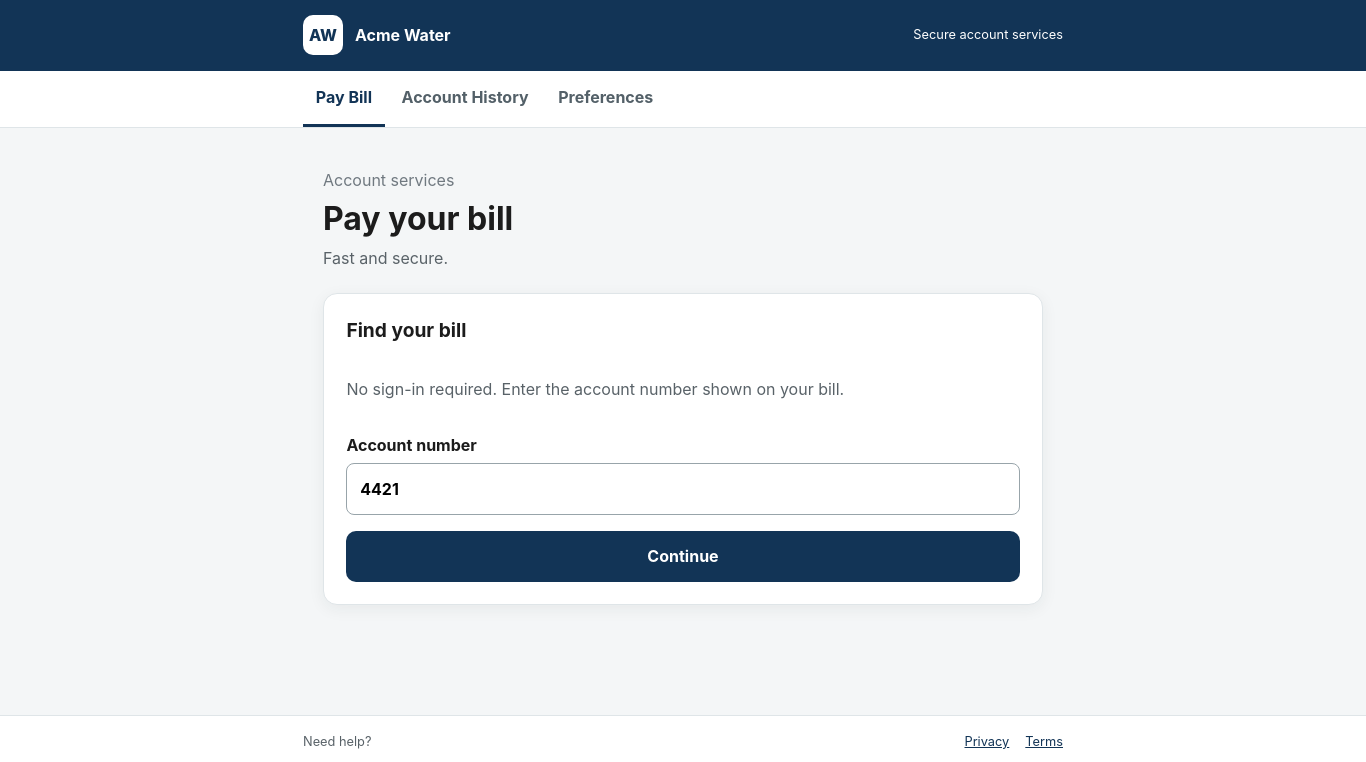
it: multi-invoice cart + batch checkout › settles each selected invoice with one POST and a distinct idempotency key
Click the button with test id "lookup-submit" at [683, 556], box [346,531,1020,582]
(page scrolled)
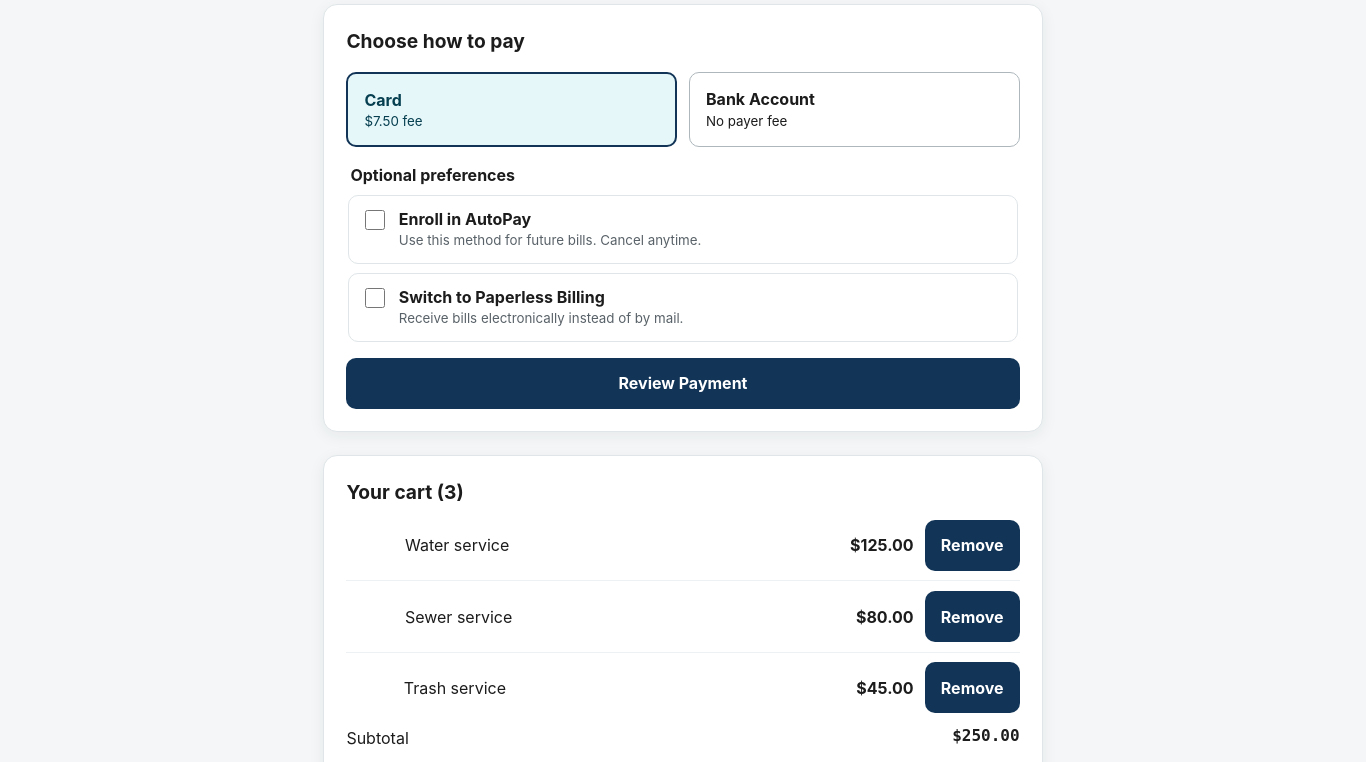
Check: the button with test id "review-submit" is enabled
Click the button with test id "review-submit" at [683, 383], box [346,358,1020,409]
(page scrolled)
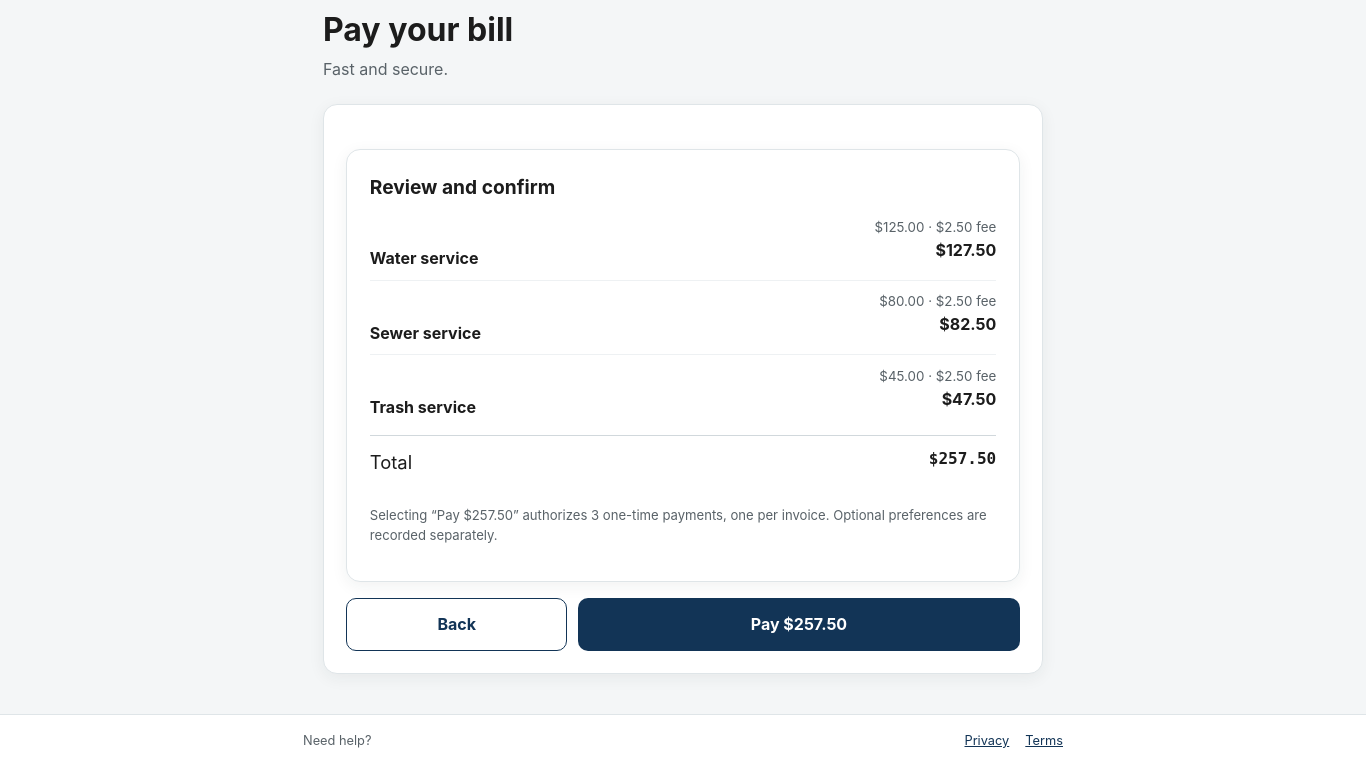
Check: the element with test id "batch-review" is shown, box [346,149,1020,582]
Click the button with test id "pay-submit" at [799, 624], box [578,598,1020,651]
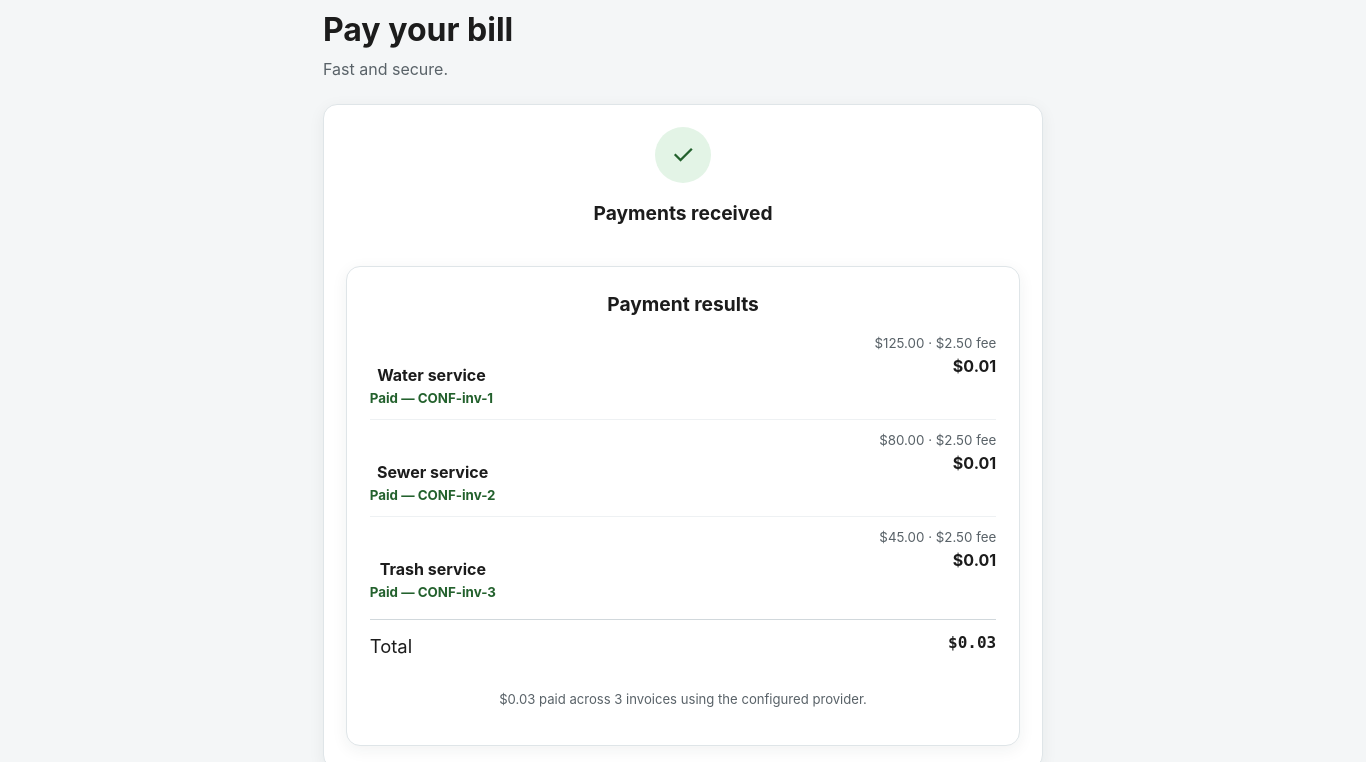
Check: the text with test id "batch-status-inv-2" shows "Paid", box [370,487,398,503]
